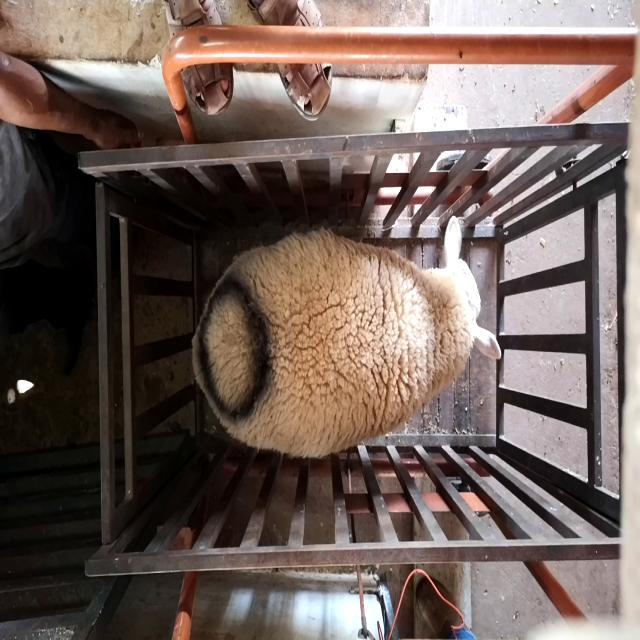sheep: (191, 214, 502, 460)
